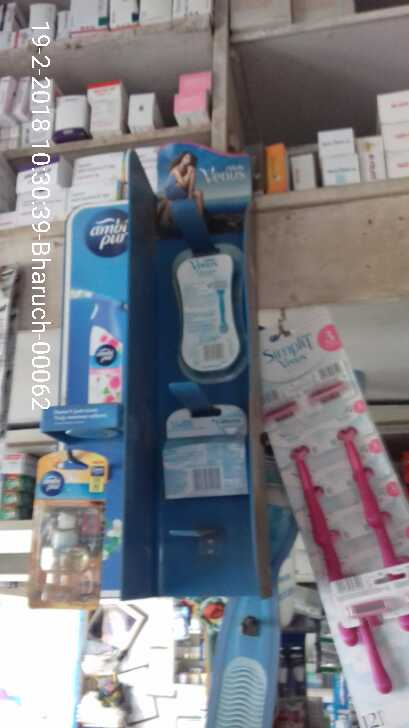ambipure: (21, 445, 114, 613)
